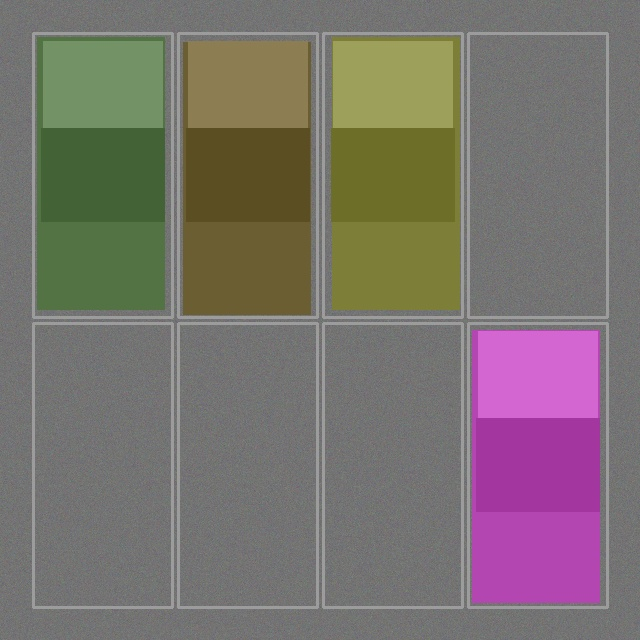space-empty: (470, 35, 605, 315), (35, 325, 170, 605), (180, 325, 315, 605), (325, 325, 460, 605)
space-occupied: (35, 35, 170, 315), (180, 35, 315, 315), (325, 35, 460, 315), (470, 325, 605, 605)
